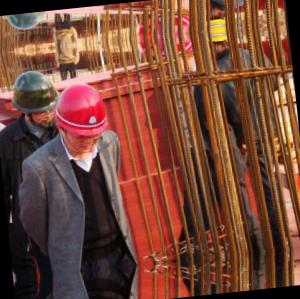helmet: (51, 79, 112, 156), (9, 66, 63, 128), (140, 34, 198, 82), (134, 1, 194, 40), (2, 11, 53, 35)
